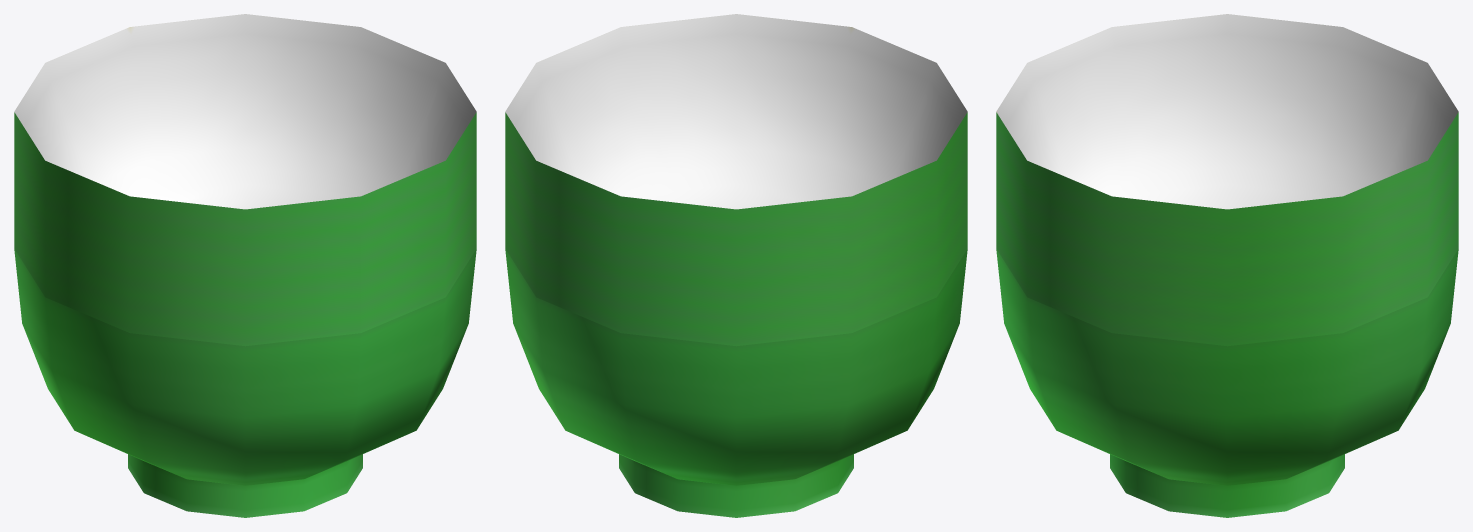
Rendered from jsf_Bowl_06_set.fbx.
3 renders of one model, left to right at view 1: azimuth 30°, elevation 25°; view 2: azimuth 150°, elevation 25°; view 3: azimuth 270°, elevation 25°, orthographic.
Visible parts, largest first — view 1: jsf_Bowl_06_set; view 2: jsf_Bowl_06_set; view 3: jsf_Bowl_06_set.
Part boxes in pixels (left/top/right/bottom): jsf_Bowl_06_set: left=14, top=14, right=476, bottom=517; jsf_Bowl_06_set: left=505, top=14, right=967, bottom=517; jsf_Bowl_06_set: left=996, top=14, right=1458, bottom=517.
Size of the model in its own units: 11.25 by 9.57 by 11.25.
